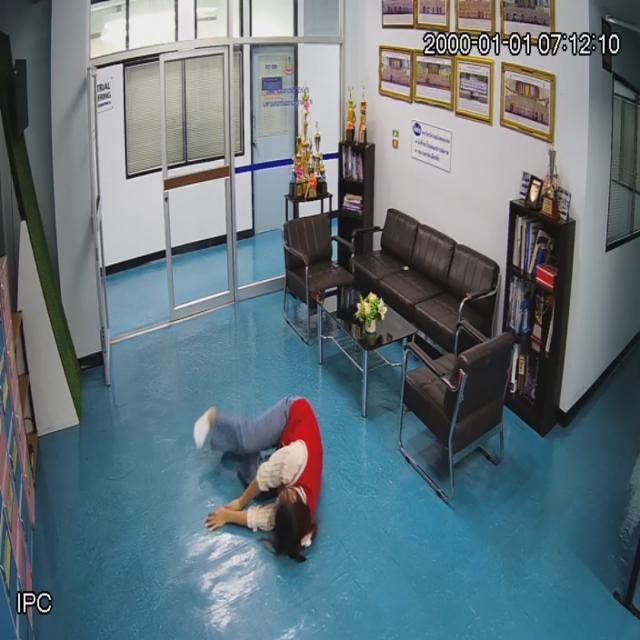fall: (190, 366, 327, 560)
